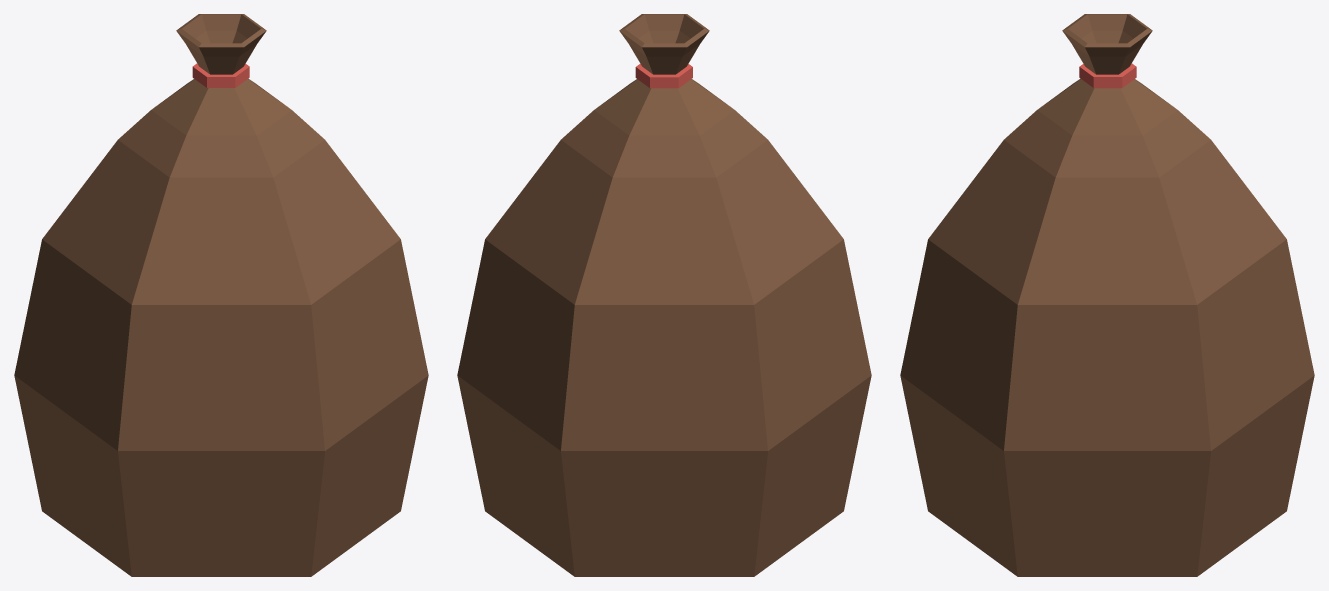
File: Sack2.fbx
3 views of the same model, side by side, from view 1: azimuth 30°, elevation 25°; view 2: azimuth 150°, elevation 25°; view 3: azimuth 270°, elevation 25° (orthographic).
Parts seen in each view (by area): view 1: Sack2; view 2: Sack2; view 3: Sack2.
Part boxes in pixels (x1,y1,x2,y2): Sack2: (14, 14, 428, 576); Sack2: (457, 14, 871, 576); Sack2: (900, 14, 1314, 576).
Size of the model in its own units: 209 by 323 by 242.
